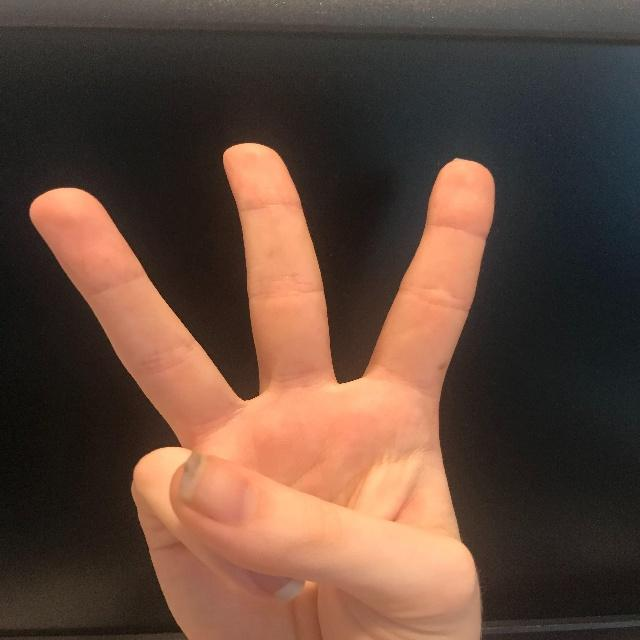W: (24, 138, 525, 639)
